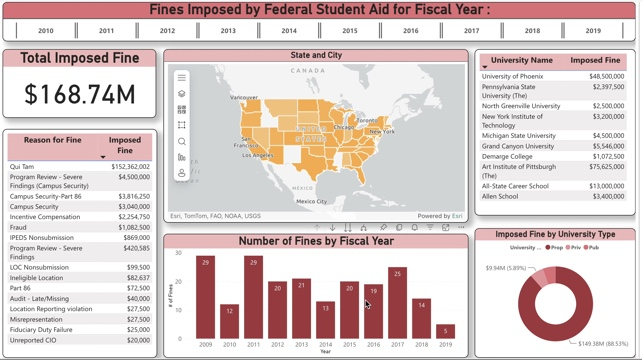

This screenshot's page, from the dashboard's own definition file:
{"tool":"powerbi","page":{"name":"Dashboard","canvas":[1280,720],"ordinal":0},"visuals":[{"type":"tableEx","fields":{"Values":["FSA Fines.Referral Reason","Sum(FSA Fines.Imposed FineAmount)"]},"box":[0,257.3,312.3,462.8],"z":0},{"type":"actionButton","box":[0,0,100,40],"z":1000},{"type":"columnChart","title":"Number of Fines by Fiscal Year","fields":{"Y":["CountNonNull(FSA Fines.OPEID)"],"Category":["FSA Fines.Imposed Fine Date.Variation.Date Hierarchy.Year","FSA Fines.Imposed Fine Date.Variation.Date Hierarchy.Quarter","FSA Fines.Imposed Fine Date.Variation.Date Hierarchy.Month","FSA Fines.Imposed Fine Date.Variation.Date Hierarchy.Day"]},"box":[325.3,469.3,616.5,250.8],"z":2000},{"type":"card","title":"Total Imposed Fine","fields":{"Values":["Sum(FSA Fines.Imposed FineAmount)"]},"box":[0,95.5,310.7,139.2],"z":3000},{"type":"esriVisual","fields":{"Location":["FSA Fines.State"],"Color":["FSA Fines.City"]},"box":[325.3,95.5,616.5,351.2],"z":4000},{"type":"slicer","title":"Fines Imposed by Federal Student Aid for Fiscal Year :","fields":{"Values":["FSA Fines.FSA Fiscal Year"]},"box":[0,0,1280,79.3],"z":5000},{"type":"tableEx","fields":{"Values":["FSA Fines.School","Sum(FSA Fines.Imposed FineAmount)"]},"box":[954.7,95.5,325.3,336.6],"z":6000},{"type":"donutChart","title":"Imposed Fine by University Type","fields":{"Category":["FSA Fines.School Type"],"Y":["Sum(FSA Fines.Imposed FineAmount)"]},"box":[954.7,458,325.3,262.1],"z":7000}]}

Visuals, with their boxes in screenshot pixels (x1, y1, x2, y2), scaled from the page's 1280x720 canvas onto the 642x360 screenshot:
tableEx - FSA Fines.Referral Reason x Sum(FSA Fines.Imposed FineAmount): region(0, 129, 157, 359)
actionButton: region(0, 0, 50, 20)
"Number of Fines by Fiscal Year" columnChart: region(163, 235, 472, 359)
"Total Imposed Fine" card: region(0, 48, 156, 117)
esriVisual - FSA Fines.State x FSA Fines.City: region(163, 48, 472, 223)
"Fines Imposed by Federal Student Aid for Fiscal Year :" slicer: region(0, 0, 641, 40)
tableEx - FSA Fines.School x Sum(FSA Fines.Imposed FineAmount): region(479, 48, 641, 216)
"Imposed Fine by University Type" donutChart: region(479, 229, 641, 359)
